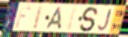A: (45, 7, 63, 31)
F: (14, 6, 32, 29)
I: (32, 5, 44, 31), (66, 6, 78, 31)
J: (97, 9, 112, 32)
S: (79, 6, 100, 33)
